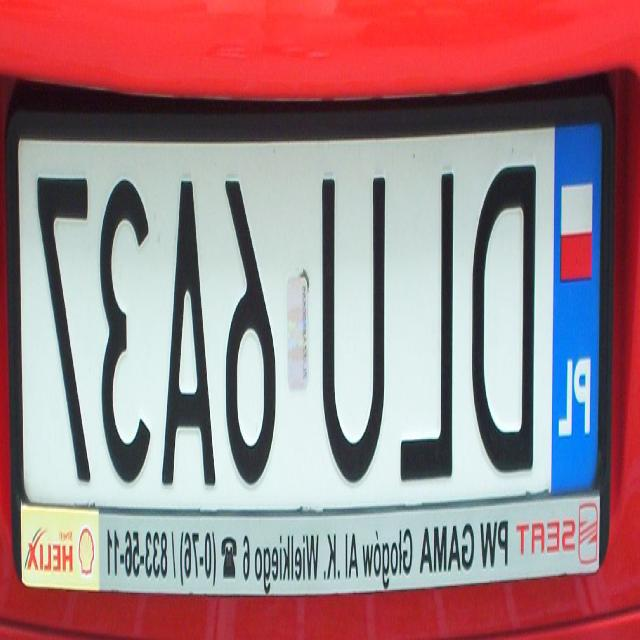pl_license_plate: (17, 107, 608, 504)
